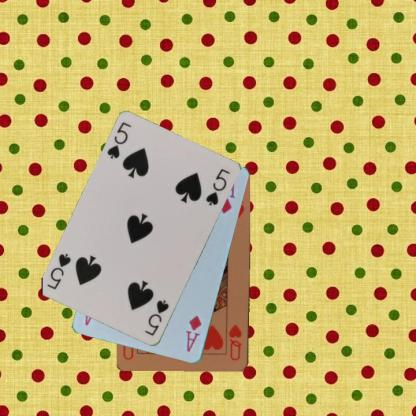5s: (142, 297, 171, 338), (105, 120, 132, 160)
Ad: (184, 312, 204, 354)
Qh: (226, 322, 244, 362)
